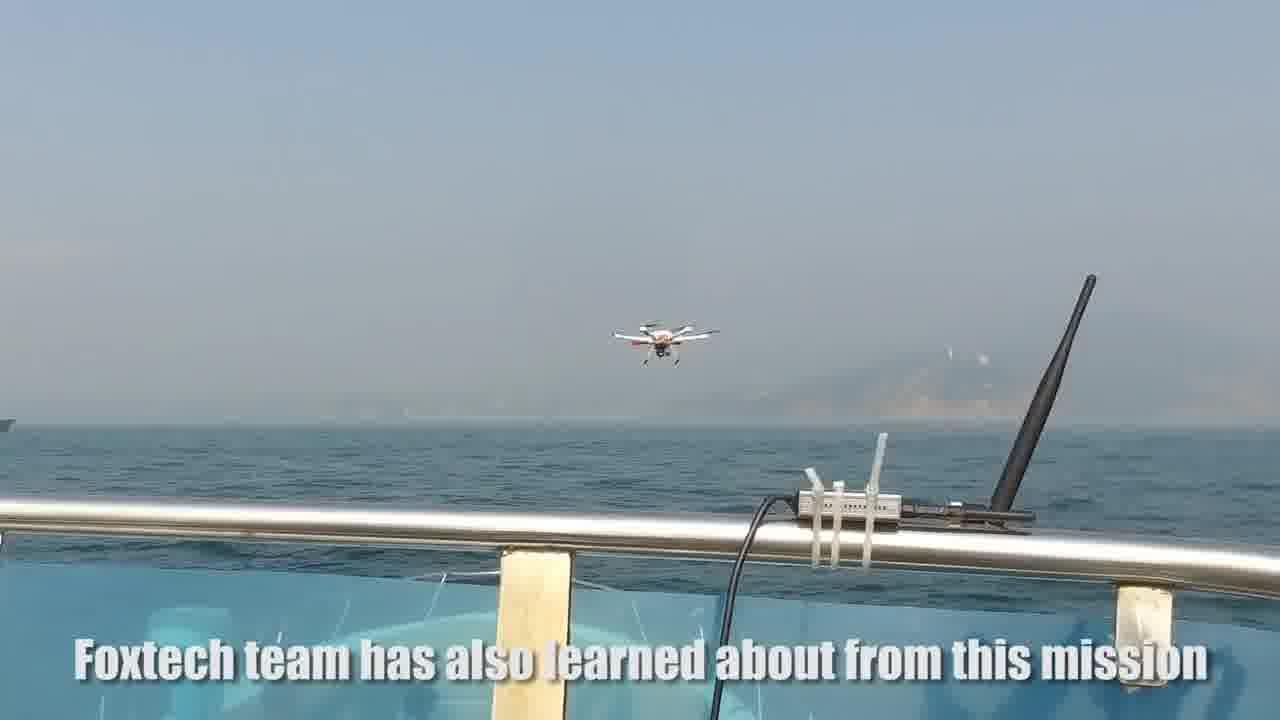drone: (598, 307, 734, 387)
